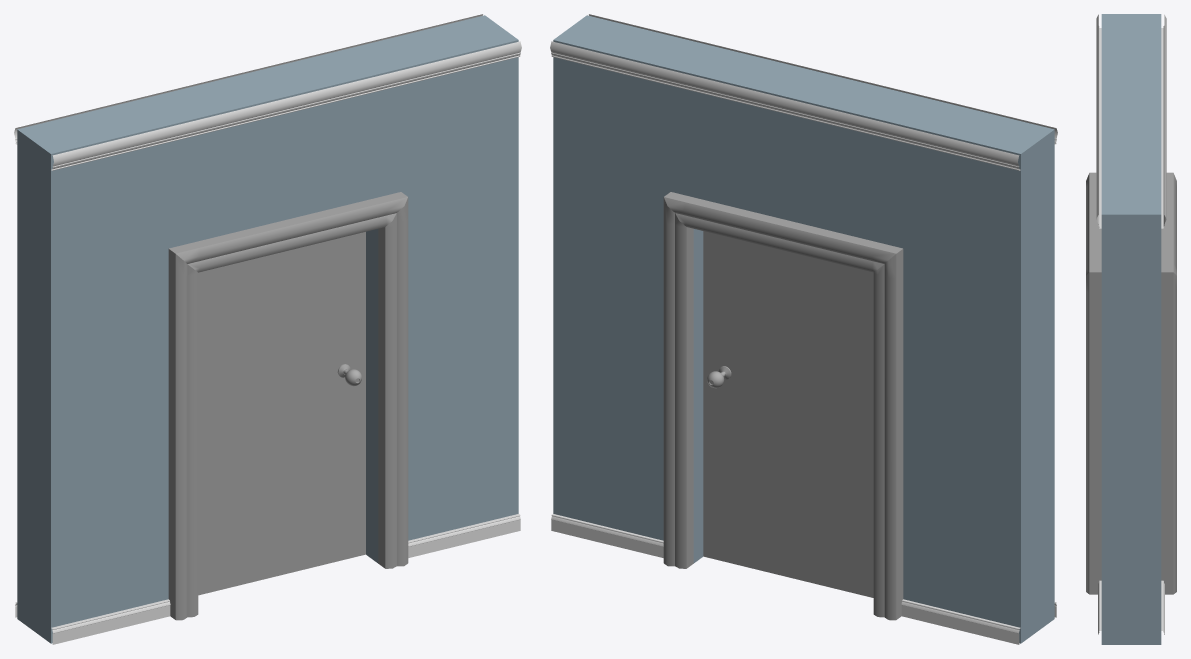
The model's file is SM_Wall_DoorFrame_Inside_Grp.fbx.
3 views of the same model, side by side, from view 1: azimuth 30°, elevation 25°; view 2: azimuth 150°, elevation 25°; view 3: azimuth 270°, elevation 25° (orthographic). The views are drawn at different scales.
Visible parts, largest first — view 1: SM_Wall_DoorFrame_Inside, SM_Door; view 2: SM_Wall_DoorFrame_Inside, SM_Door; view 3: SM_Wall_DoorFrame_Inside.
Part boxes in pixels (<box>): SM_Wall_DoorFrame_Inside: <box>14,14,521,644</box>; SM_Door: <box>198,232,365,595</box>; SM_Wall_DoorFrame_Inside: <box>550,14,1057,644</box>; SM_Door: <box>703,231,873,597</box>; SM_Wall_DoorFrame_Inside: <box>1086,14,1176,644</box>.
Size of the model in its own units: 2 by 2 by 0.3826.
